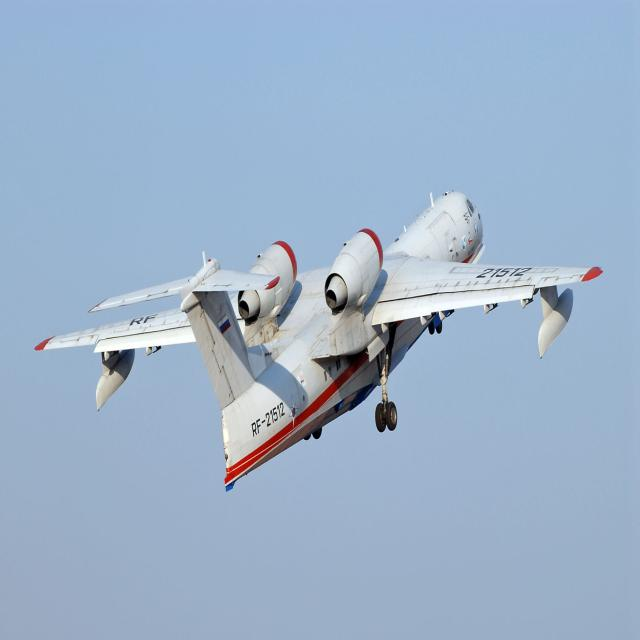MIL_Plane: (34, 0, 604, 236)
